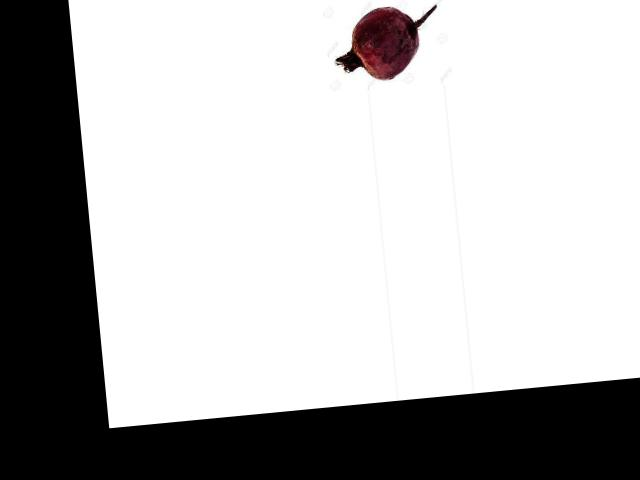beet: (330, 1, 442, 83)
